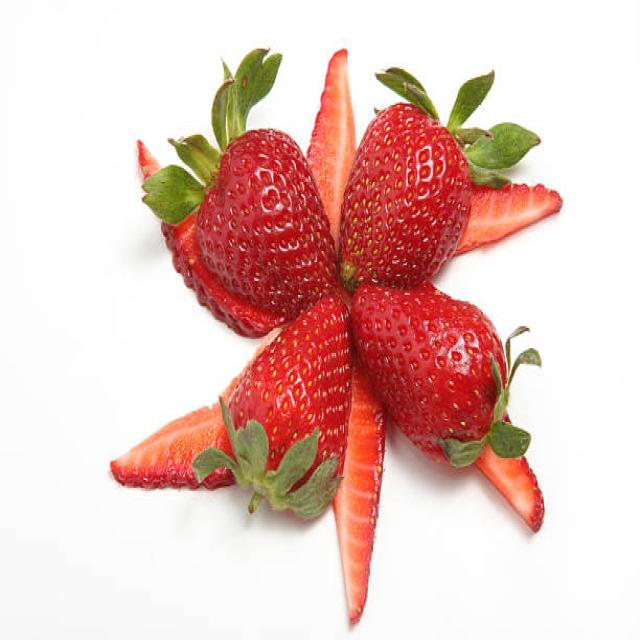Healthy Fruit: (350, 284, 506, 464), (197, 129, 340, 316), (340, 102, 472, 291), (227, 295, 351, 477)
